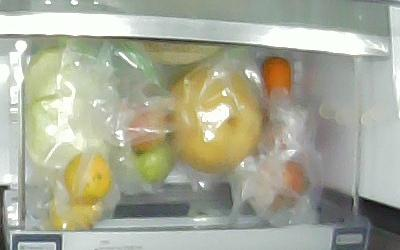cabbage_vinyl: (25, 47, 111, 179)
carrot_vinyl: (261, 57, 304, 193)
melon: (136, 40, 229, 66)
pear_vinyl: (170, 64, 262, 172)
tangerine_vinyl: (65, 154, 110, 202), (50, 195, 102, 231)
tomato_vinyl: (129, 108, 167, 149), (136, 145, 170, 186)
